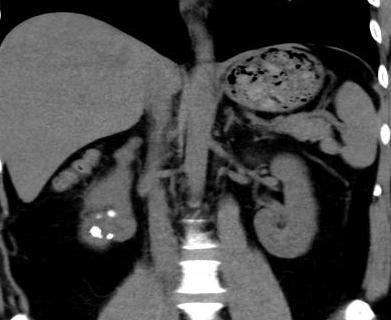Tas_Var: (90, 225, 104, 240), (106, 232, 115, 242), (94, 213, 102, 221), (108, 210, 116, 218)
